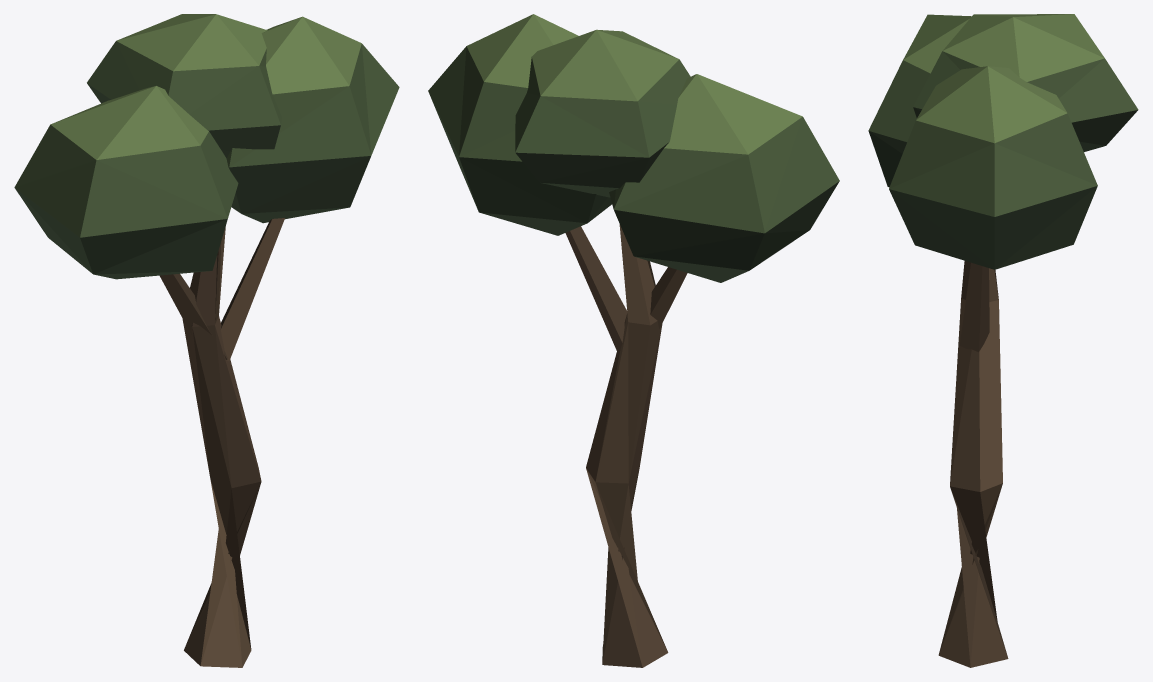
The model's file is tree_young.glb.
3 views of the same model, side by side, from view 1: azimuth 30°, elevation 25°; view 2: azimuth 150°, elevation 25°; view 3: azimuth 270°, elevation 25° (orthographic). The views are drawn at different scales.
Parts seen in each view (by area): view 1: Canopy_Young.001, Body_tree_young.001; view 2: Canopy_Young.001, Body_tree_young.001; view 3: Canopy_Young.001, Body_tree_young.001.
Boxes of the visible parts, left/top/right/bottom form: Canopy_Young.001: left=14, top=14, right=399, bottom=279; Body_tree_young.001: left=160, top=218, right=284, bottom=667; Canopy_Young.001: left=428, top=14, right=839, bottom=282; Body_tree_young.001: left=565, top=224, right=687, bottom=667; Canopy_Young.001: left=868, top=14, right=1138, bottom=269; Body_tree_young.001: left=938, top=261, right=1008, bottom=667.
Bounding box in the file's own units: 1.51 × 2.49 × 0.9481.
